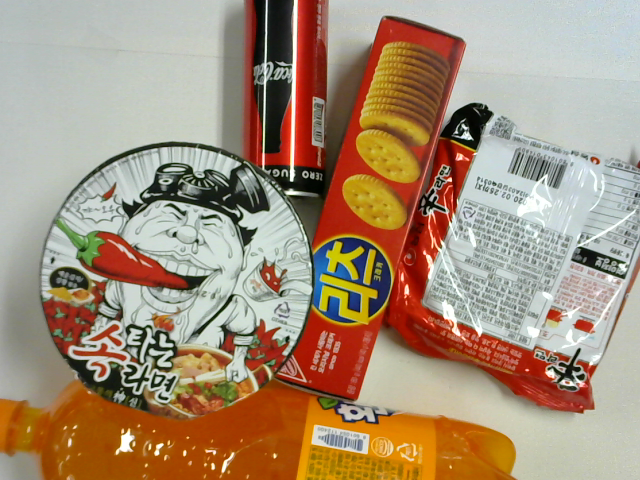Coca_Cola_Zero_Can_250ml: (242, 1, 329, 199)
HeJangsock: (39, 142, 315, 419)
Hwanta_Orange_1.5L: (1, 376, 517, 480)
Ritz_Cracker: (275, 16, 466, 402)
Sinramen: (384, 102, 640, 413)
